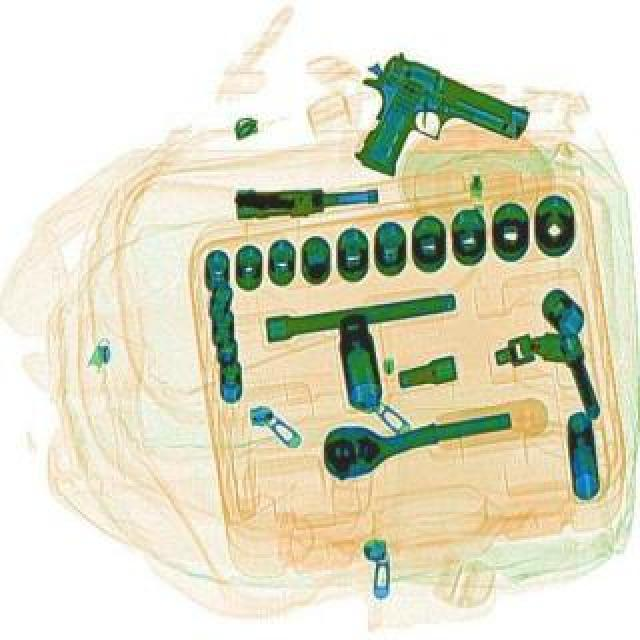gun: (326, 48, 538, 220)
